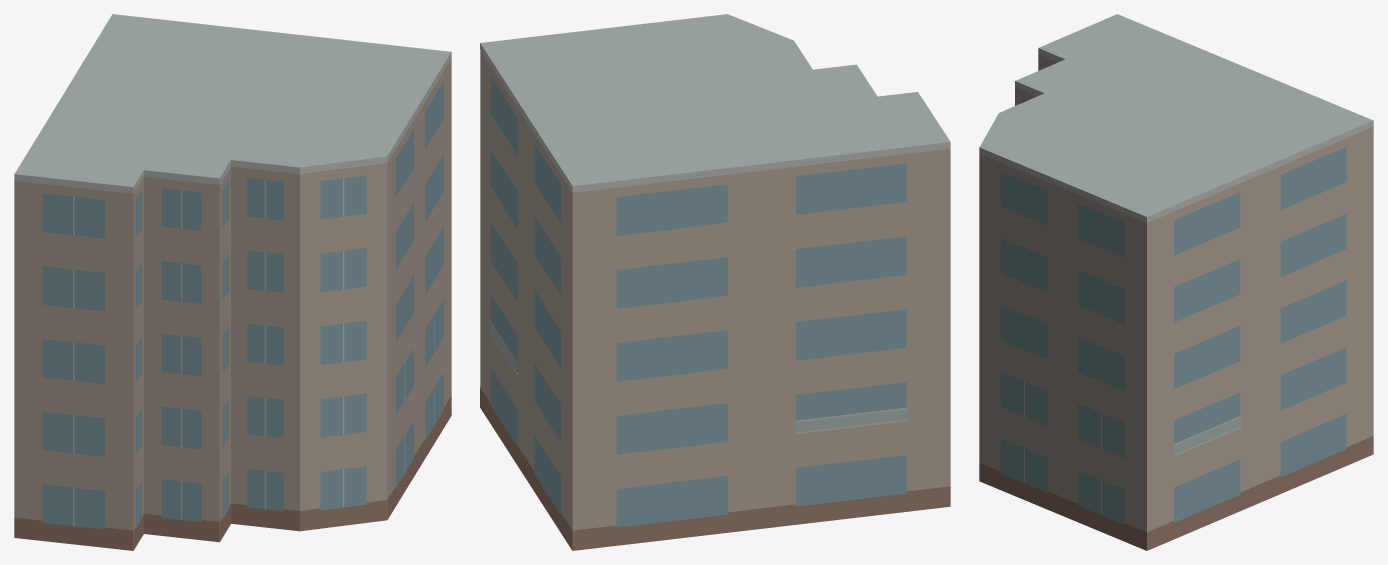
Rendered from survey-upis-32706205.glb.
3 views of the same model, side by side, from view 1: azimuth 30°, elevation 25°; view 2: azimuth 150°, elevation 25°; view 3: azimuth 270°, elevation 25° (orthographic). The views are drawn at different scales.
Visible parts, largest first — view 1: survey-upis-32706205.tmp; view 2: survey-upis-32706205.tmp; view 3: survey-upis-32706205.tmp.
Boxes of the visible parts, left/top/right/bottom form: survey-upis-32706205.tmp: left=14, top=14, right=451, bottom=550; survey-upis-32706205.tmp: left=480, top=14, right=950, bottom=550; survey-upis-32706205.tmp: left=979, top=14, right=1373, bottom=550.
Size of the model in its own units: 17.55 by 13.45 by 14.4.
